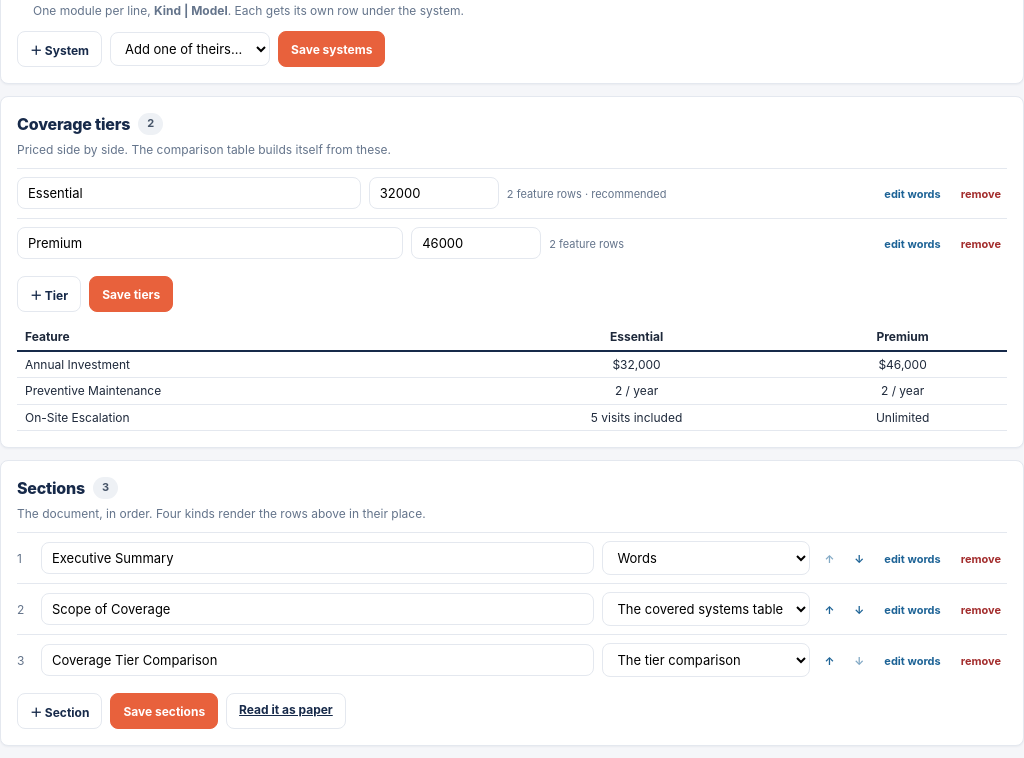
Test: the sections › says what the three marks in a body mean, where somebody is typing one
(page scrolled)
Click the 5th button "edit words" at (912, 661), box [878, 645, 947, 677]
(page scrolled)
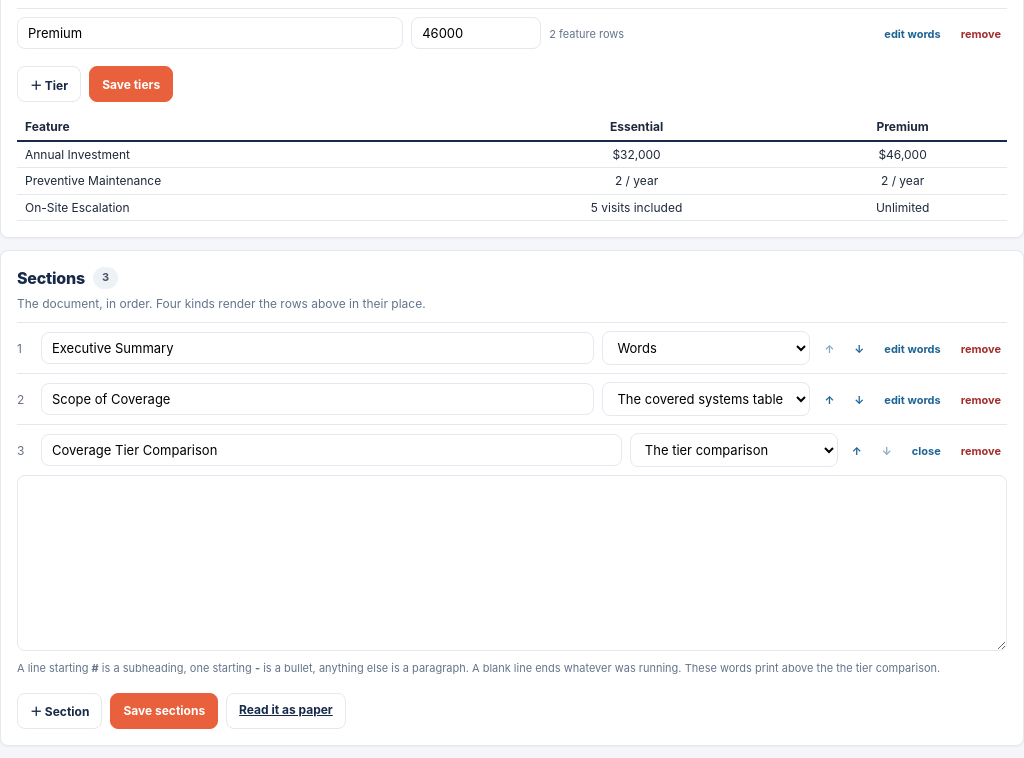
Result: the text "is a subheading" is shown at [99, 661, 255, 675]
